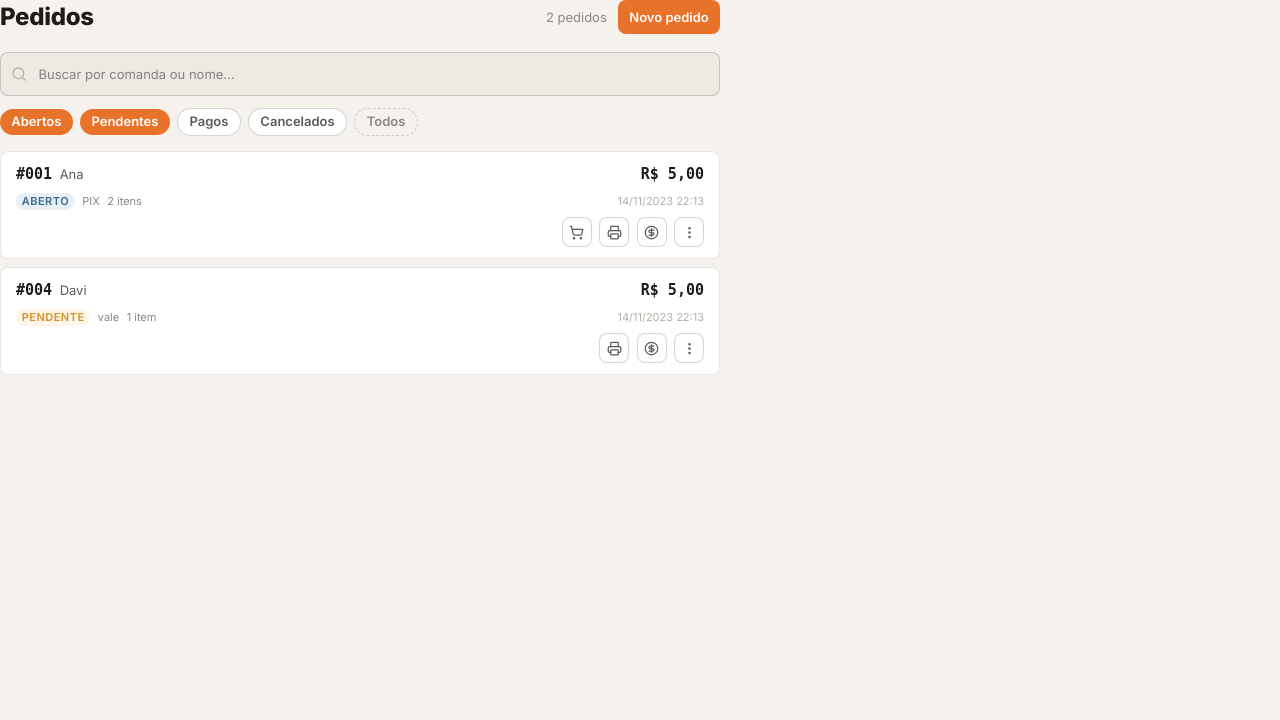
OrdersPage › marks an order as paid and closes the modal
Check: the text "#004" is shown, box x1=16 y1=279 x2=52 y2=302
What coordinates should you click on to do the following:
click the 2nd button named "Mais ações"
I would click on:
 (689, 348)
Its box is x1=674 y1=333 x2=704 y2=363.
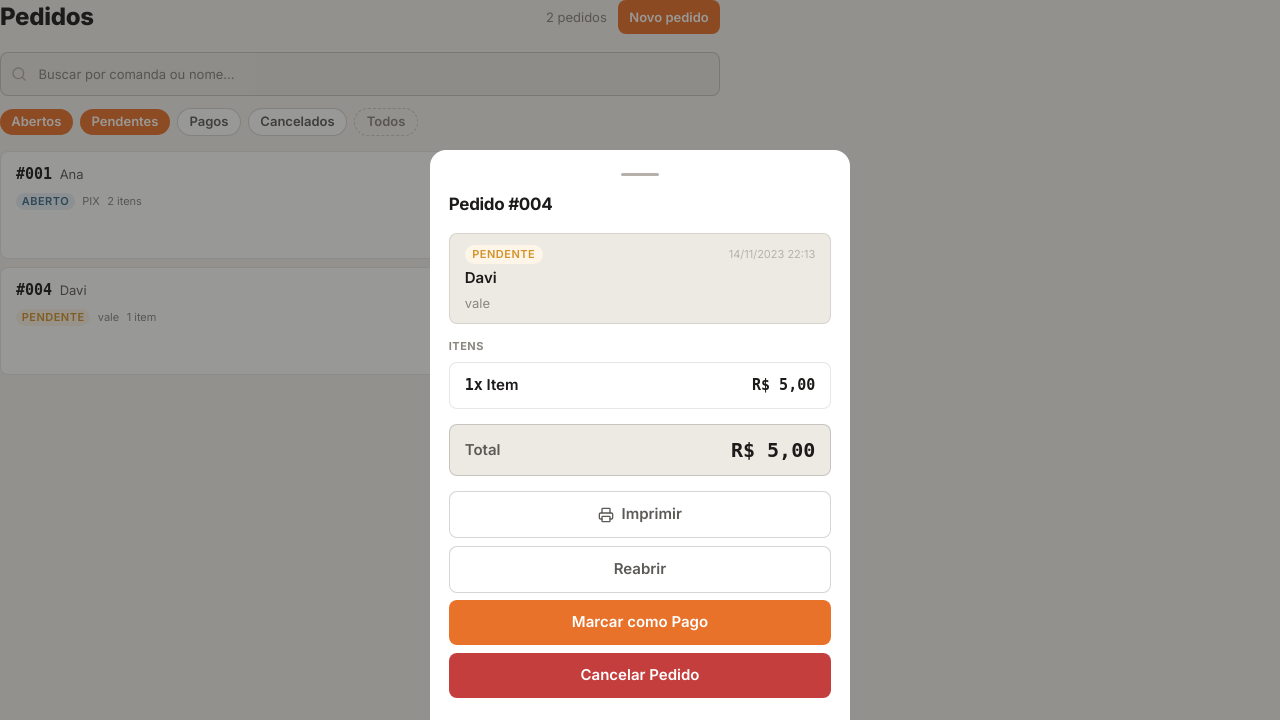
What coordinates should you click on to do the following:
click the button "Marcar como Pago"
I would click on:
 (640, 622)
Its box is x1=449 y1=600 x2=831 y2=645.
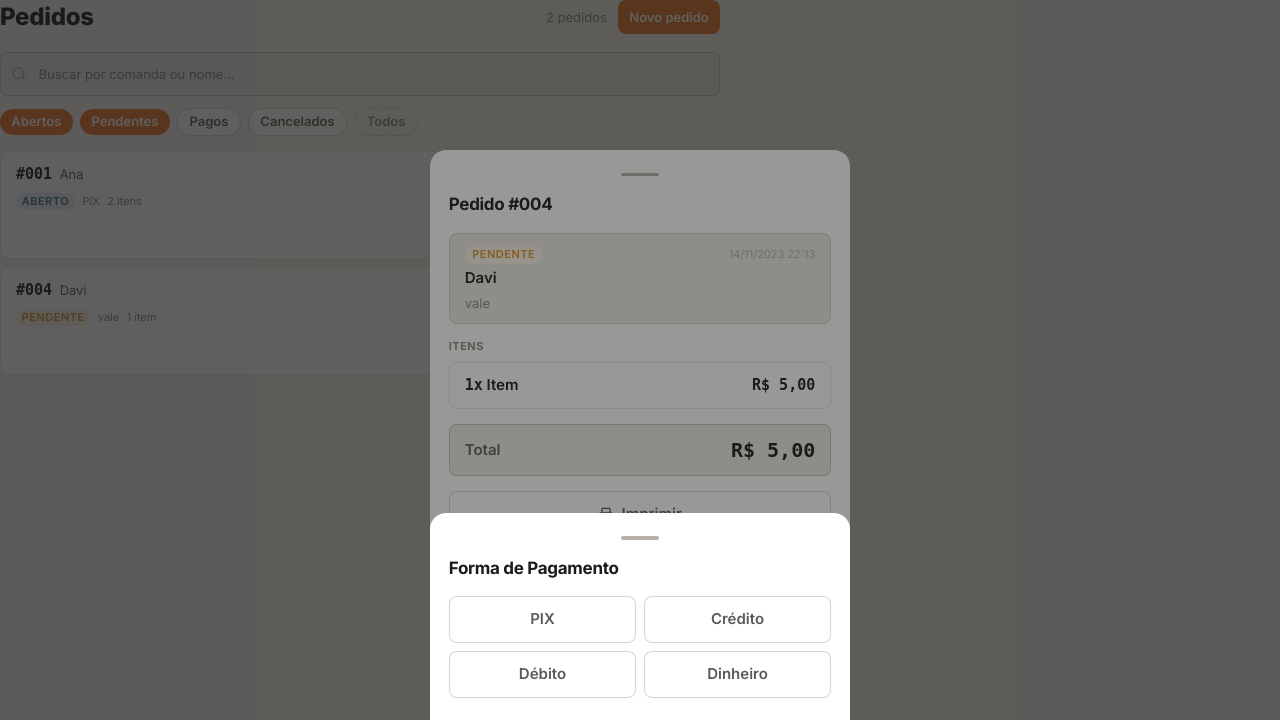
What coordinates should you click on to do the following:
click the button "Débito"
I would click on:
 (543, 674)
Its box is x1=449 y1=650 x2=636 y2=698.
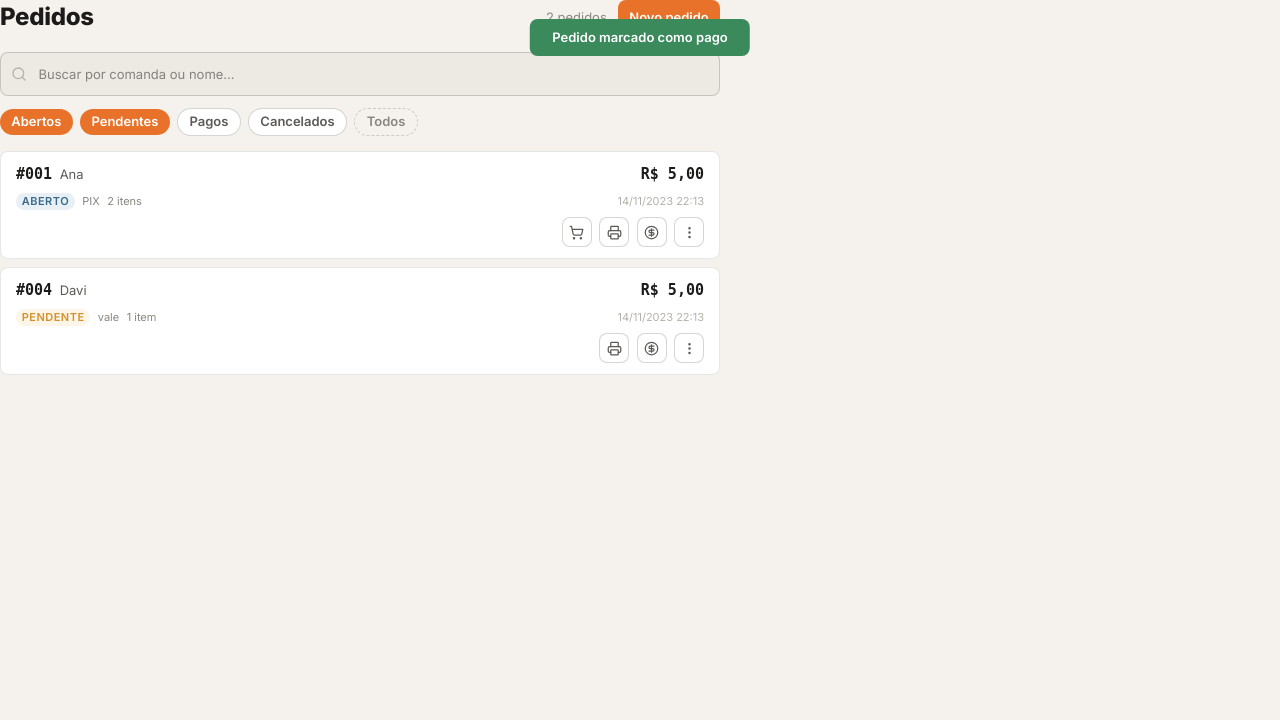
Check: the dialog is gone
